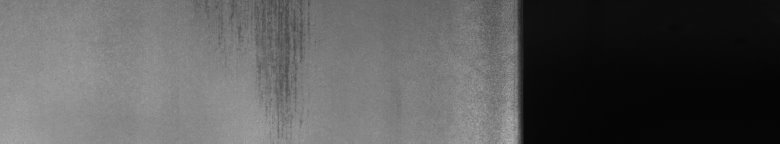ka: (223, 4, 315, 102)
